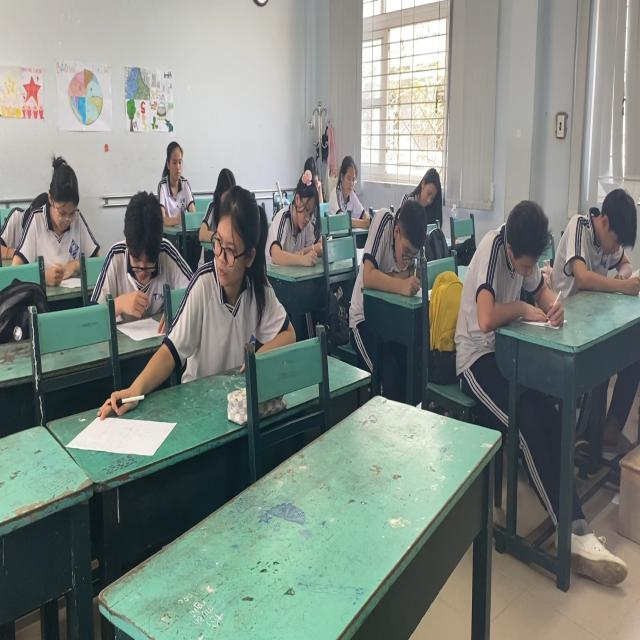cheating: (182, 182, 272, 368)
not_cheating: (474, 195, 557, 330), (98, 189, 188, 312), (572, 163, 640, 291), (357, 192, 429, 298), (34, 150, 93, 275), (264, 164, 334, 261), (155, 134, 202, 215), (326, 140, 369, 216), (410, 164, 447, 222)
